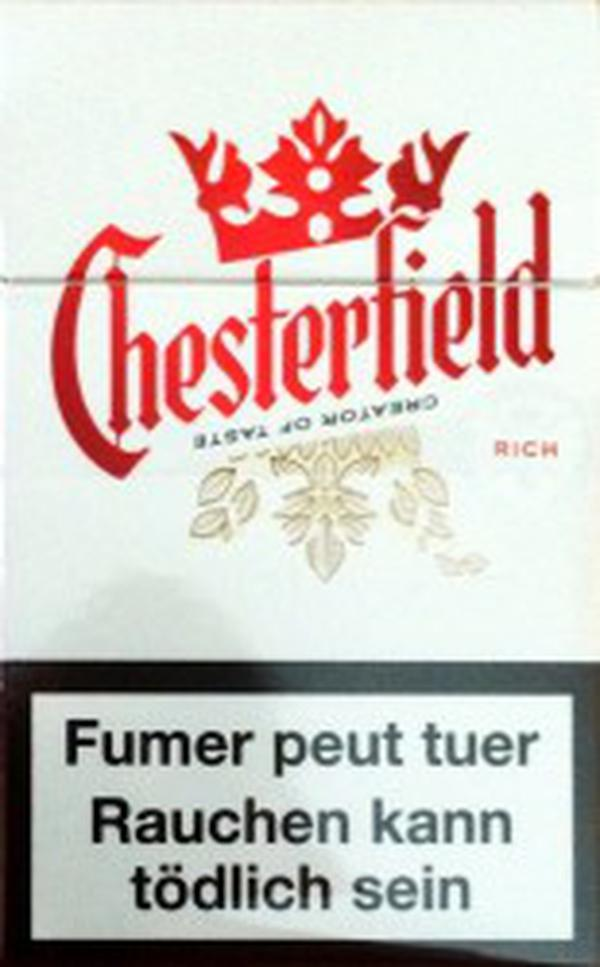chesterfield_red: (3, 1, 600, 965)
